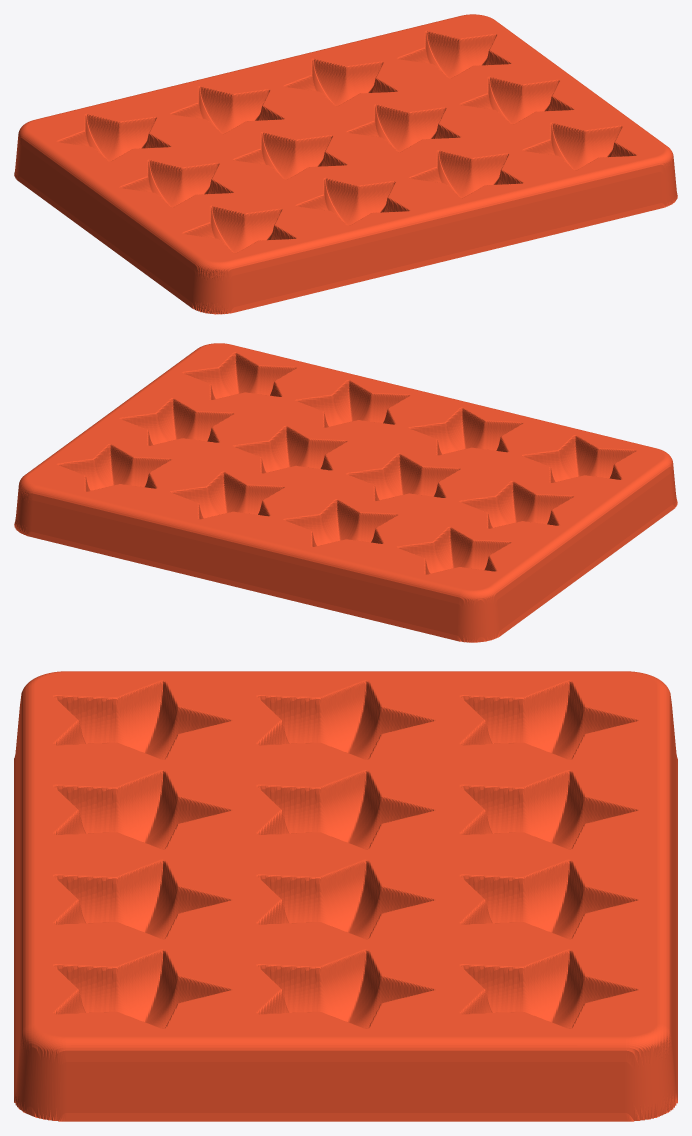
The model's file is mold.glb.
The picture shows the model from 3 angles, top to bottom: view 1: azimuth 30°, elevation 25°; view 2: azimuth 150°, elevation 25°; view 3: azimuth 270°, elevation 25°; orthographic projection. The views are drawn at different scales.
Visible parts, largest first — view 1: geometry_0; view 2: geometry_0; view 3: geometry_0.
Boxes of the visible parts, <box> form: geometry_0: <box>14,14,677,314</box>; geometry_0: <box>14,343,677,642</box>; geometry_0: <box>14,671,677,1121</box>.
Size of the model in its own units: 0.1558 by 0.0145 by 0.1145.
